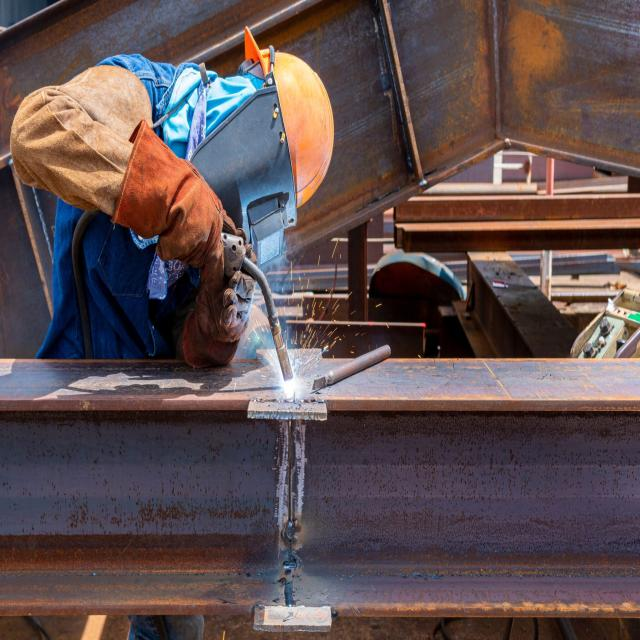welding: (282, 374, 302, 400)
